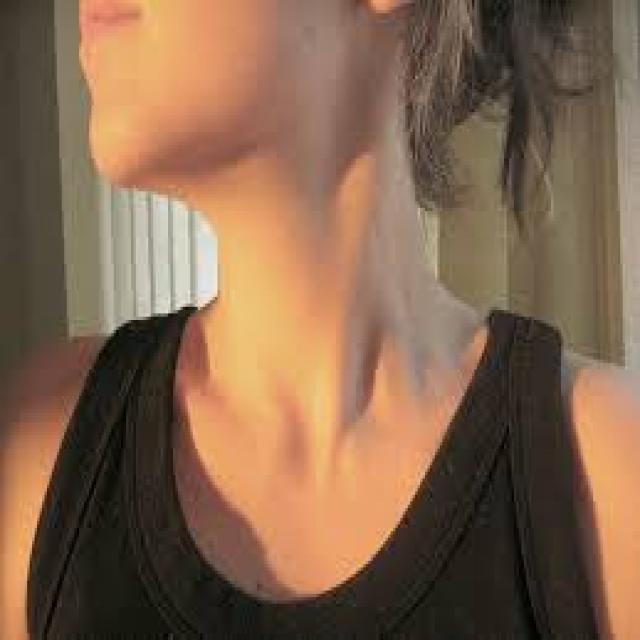Healthy: (190, 154, 486, 469)
